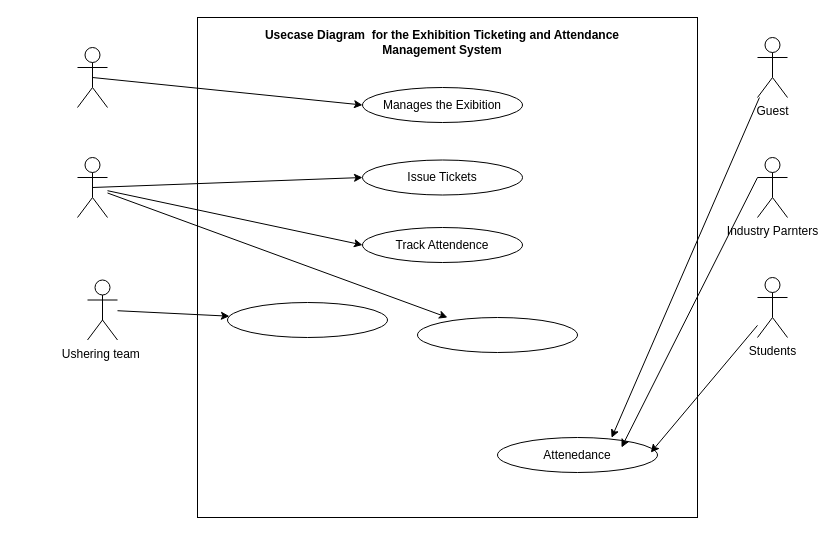
Some shapes in this 835 by 535 pixel diagram are drawn without their labels. The shapes that lost their labels are listed below. From the top down, each one's centre as x and y in pixels, then its label:
At point (92, 77): "Dr.Kaketo".
At point (92, 187): "Events and Records Teams".
At point (307, 320): "Manage Guest list".
At point (497, 334): "Generate Reports".
